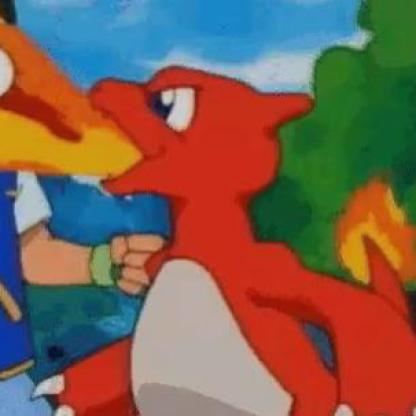Glutexo: (2, 0, 416, 414)
